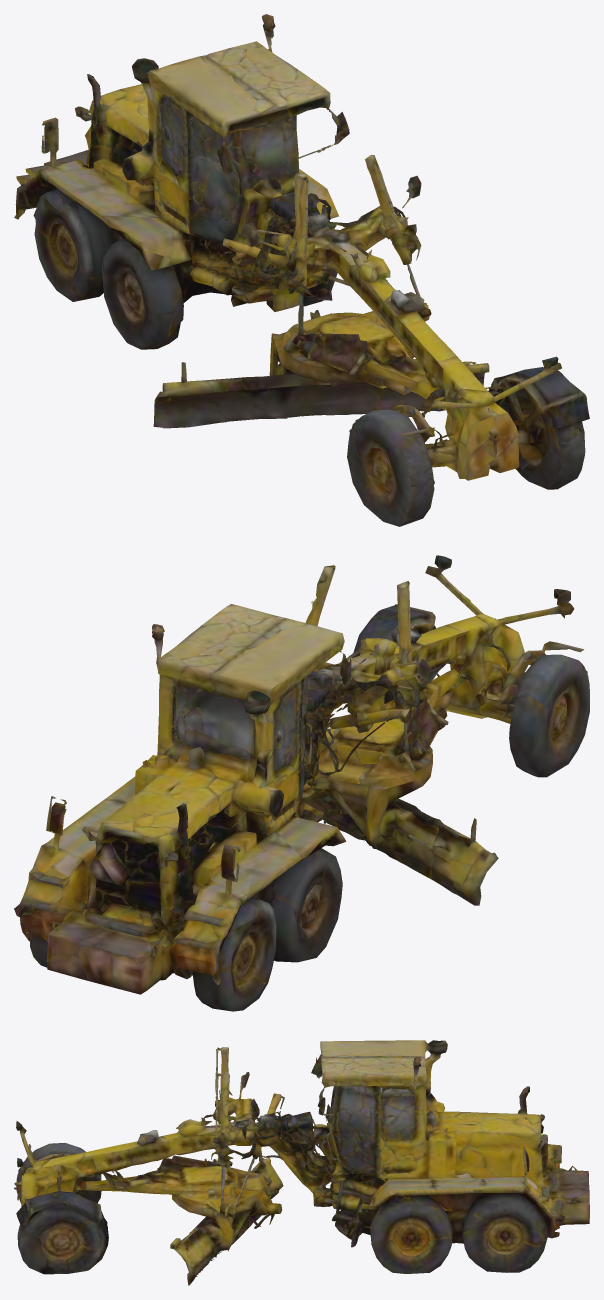
File: road_grader_low.glb
3 views of the same model, one above another, from view 1: azimuth 30°, elevation 25°; view 2: azimuth 150°, elevation 25°; view 3: azimuth 270°, elevation 25° (orthographic). The views are drawn at different scales.
Parts seen in each view (by area): view 1: Object_2; view 2: Object_2; view 3: Object_2.
Part boxes in pixels (x1,y1,x2,y2): Object_2: (14,14,589,526); Object_2: (14,555,589,1011); Object_2: (14,1040,589,1285).
Size of the model in its own units: 3.37 by 3.43 by 8.52.
Materials: 1 (1 with a texture image).
